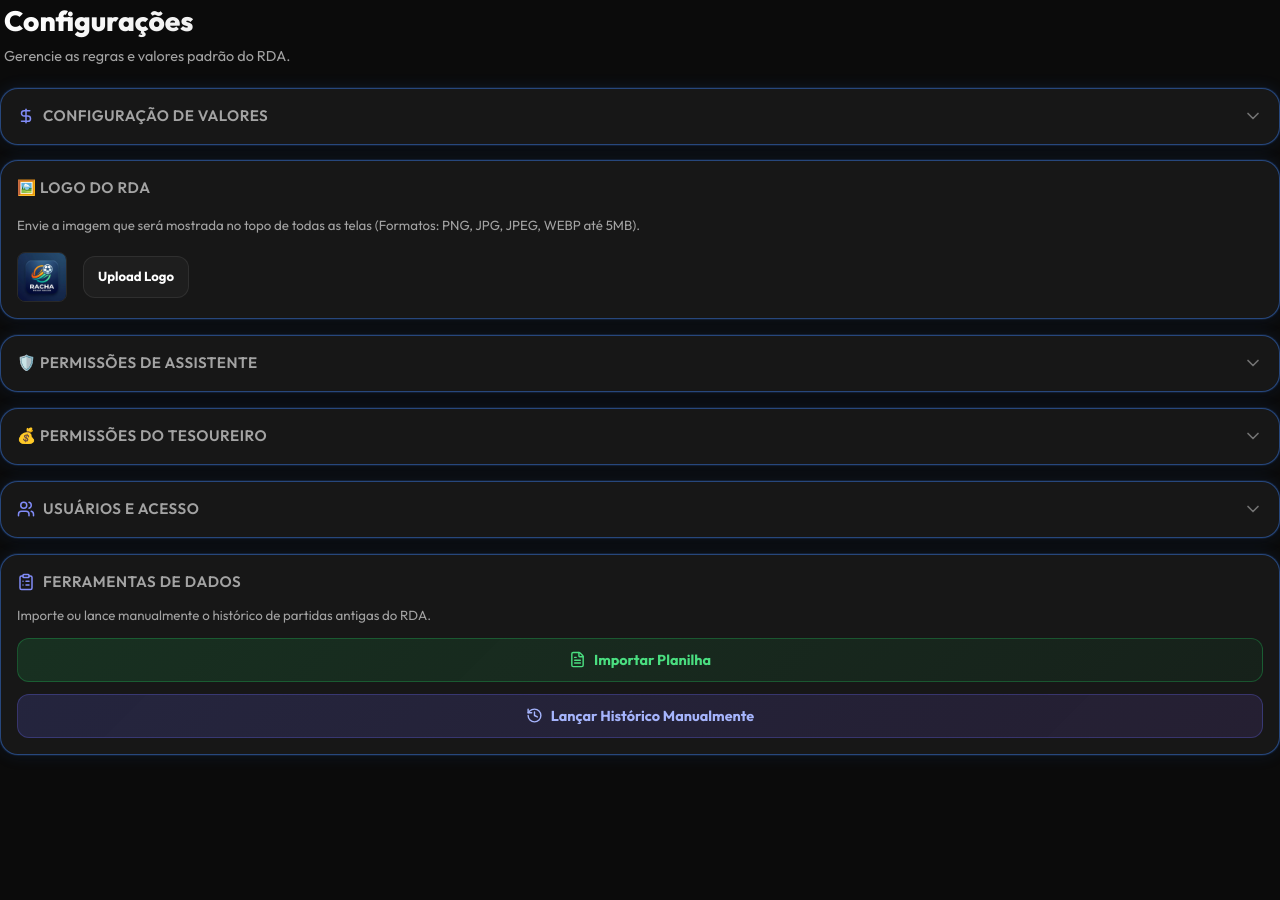
Test: Configuracoes Component › should toggle password visibility in Create Assistant modal
What coordinates should you click on to do the following:
click the text "Usuários e Acesso"
I would click on:
 (108, 509)
Its box is [17,498,199,520].
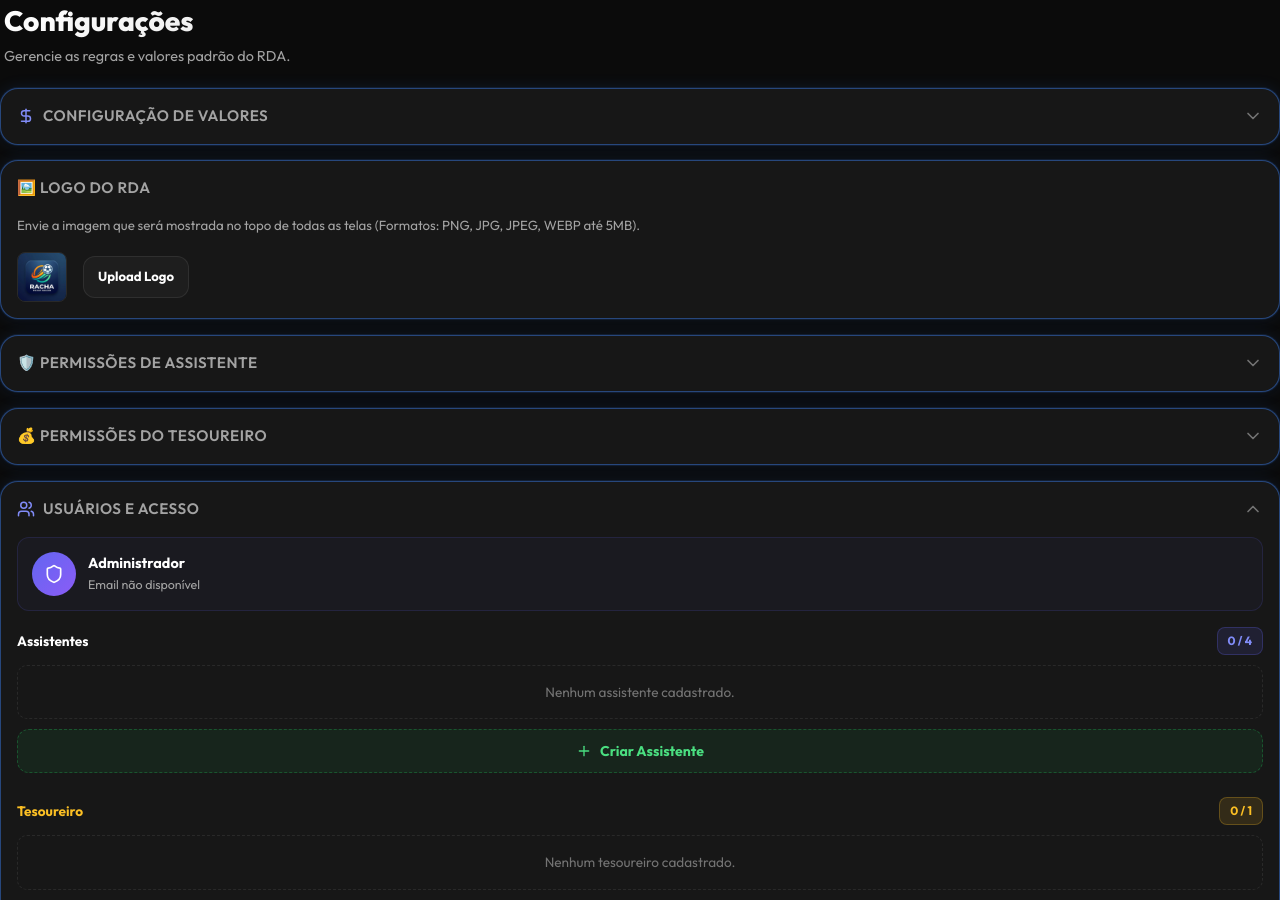
Result: the button "Criar Assistente" is shown
What coordinates should you click on to do the following:
click the button "Criar Assistente"
I would click on:
 (640, 751)
Its box is [17,729,1263,773].
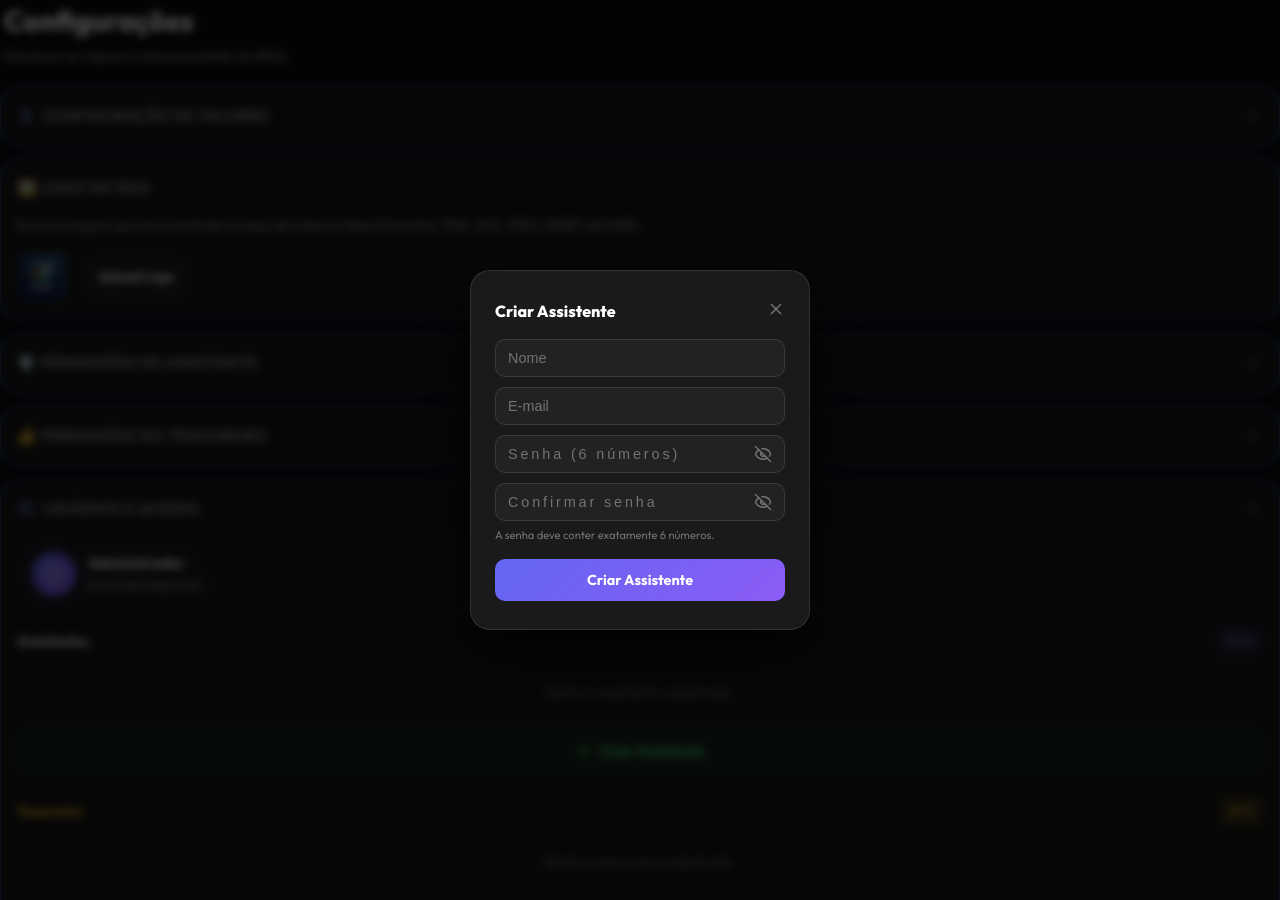
// Click eye for password
What coordinates should you click on to do the following:
click the button titled "Ver senha"
I would click on:
 (763, 454)
Its box is [745,436,781,472].
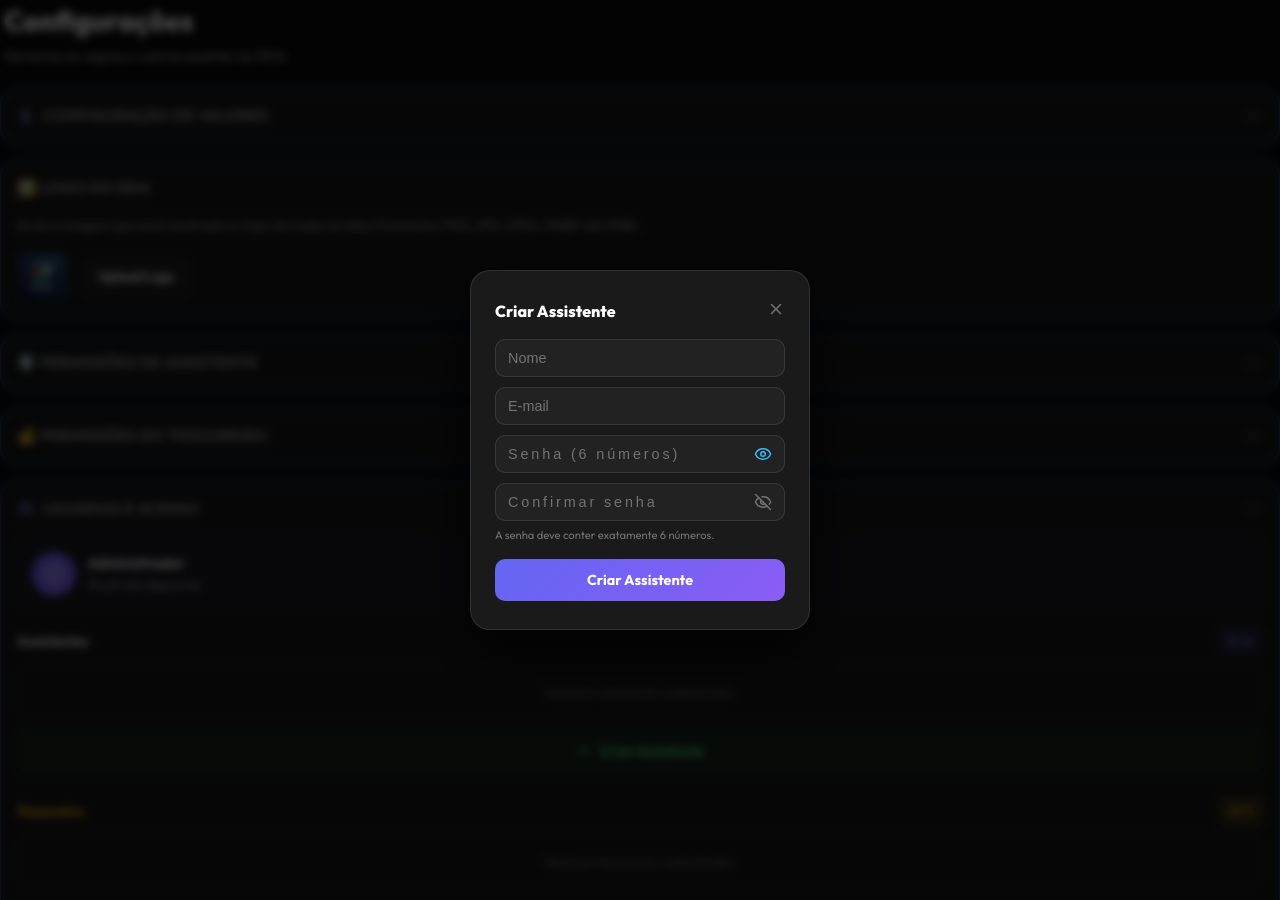
Result: the button titled "Ocultar senha" is shown
// Click again to hide
What coordinates should you click on to do the following:
click the button titled "Ocultar senha"
I would click on:
 (763, 454)
Its box is [745,436,781,472].
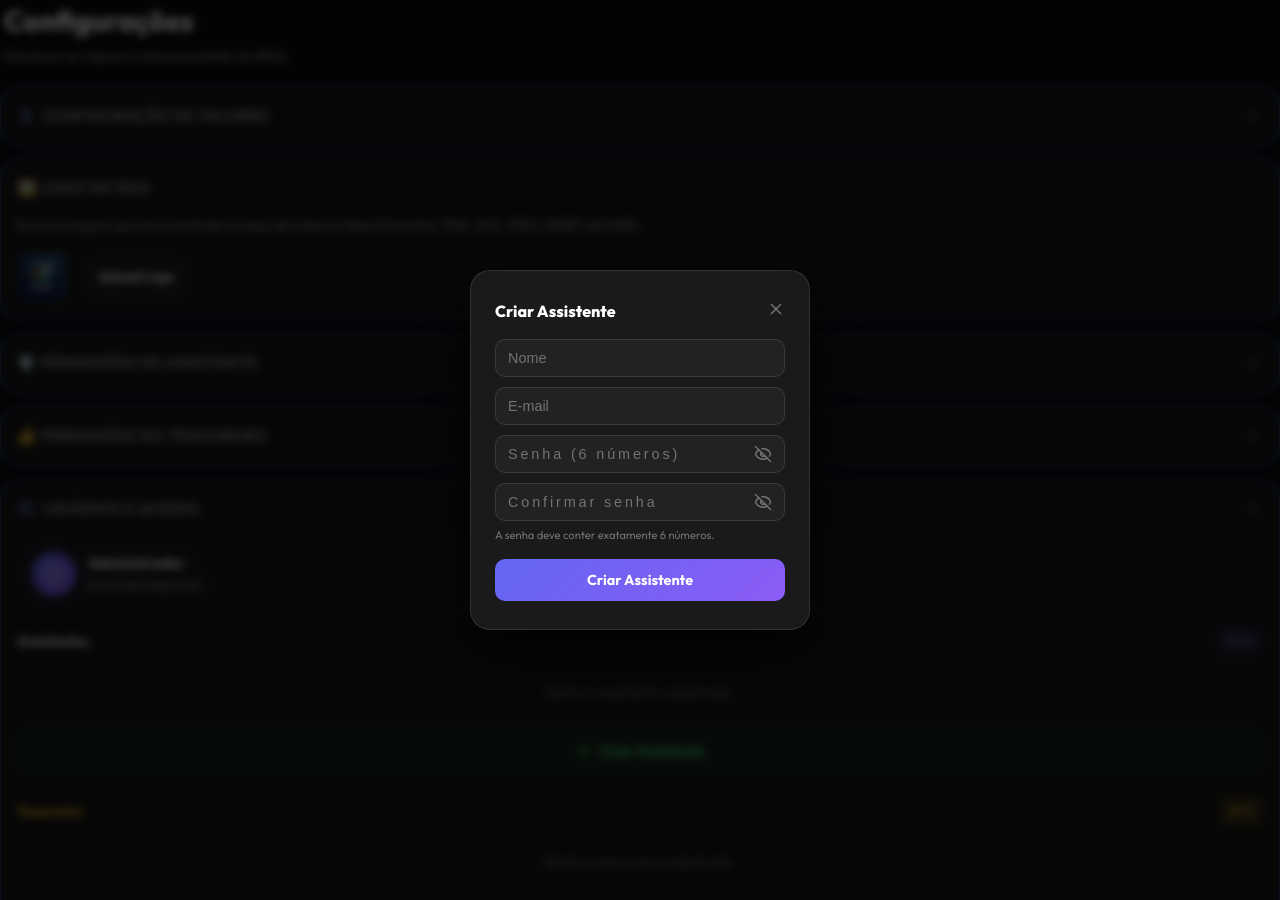
Result: the button titled "Ver senha" is shown at [745,436,781,472]
// Click eye for confirm password
What coordinates should you click on to do the following:
click the button titled "Ver confirmação de senha"
I would click on:
 (763, 502)
Its box is [745,484,781,520].
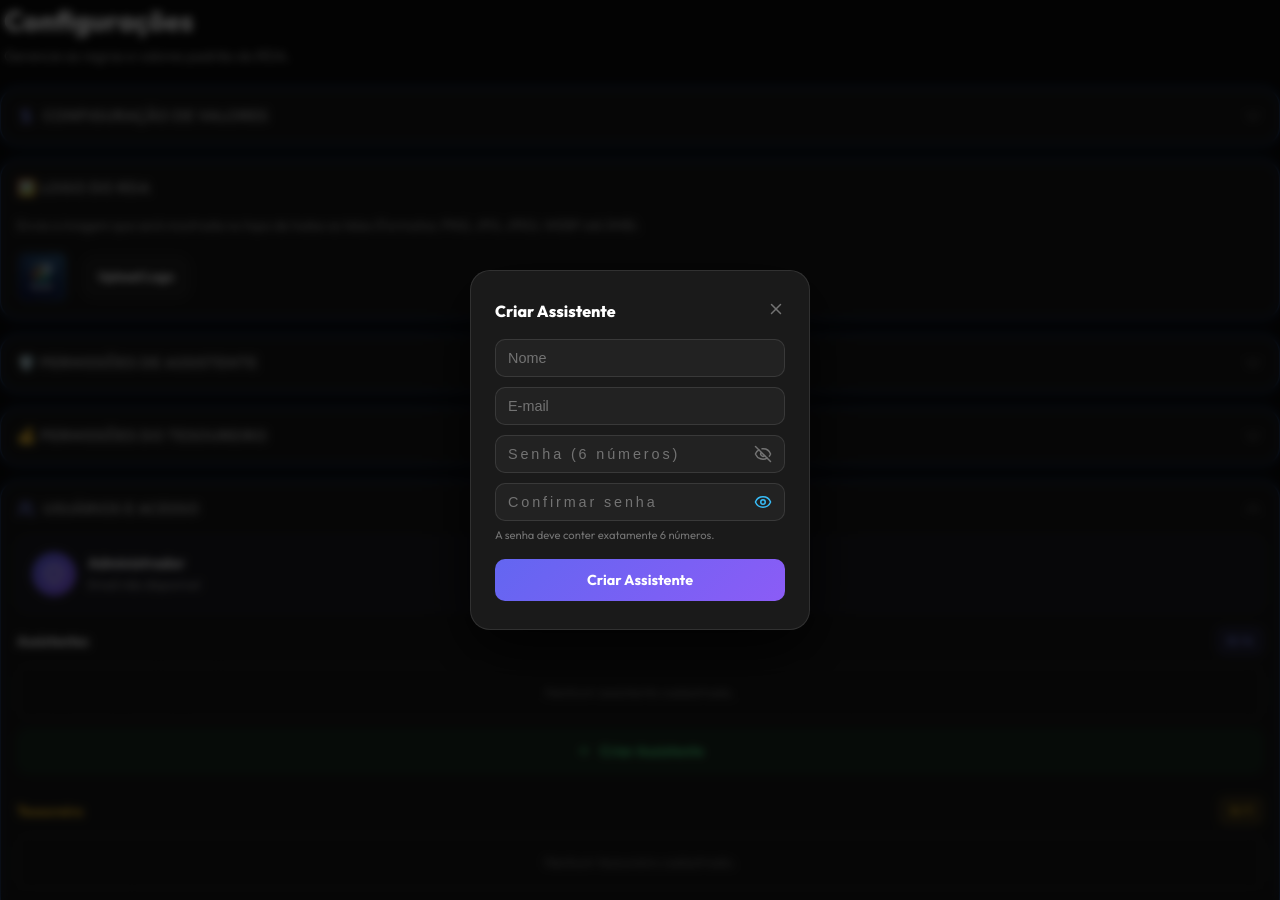
Result: the button titled "Ocultar confirmação de senha" is shown
// Click again to hide
What coordinates should you click on to do the following:
click the button titled "Ocultar confirmação de senha"
I would click on:
 (763, 502)
Its box is [745,484,781,520].
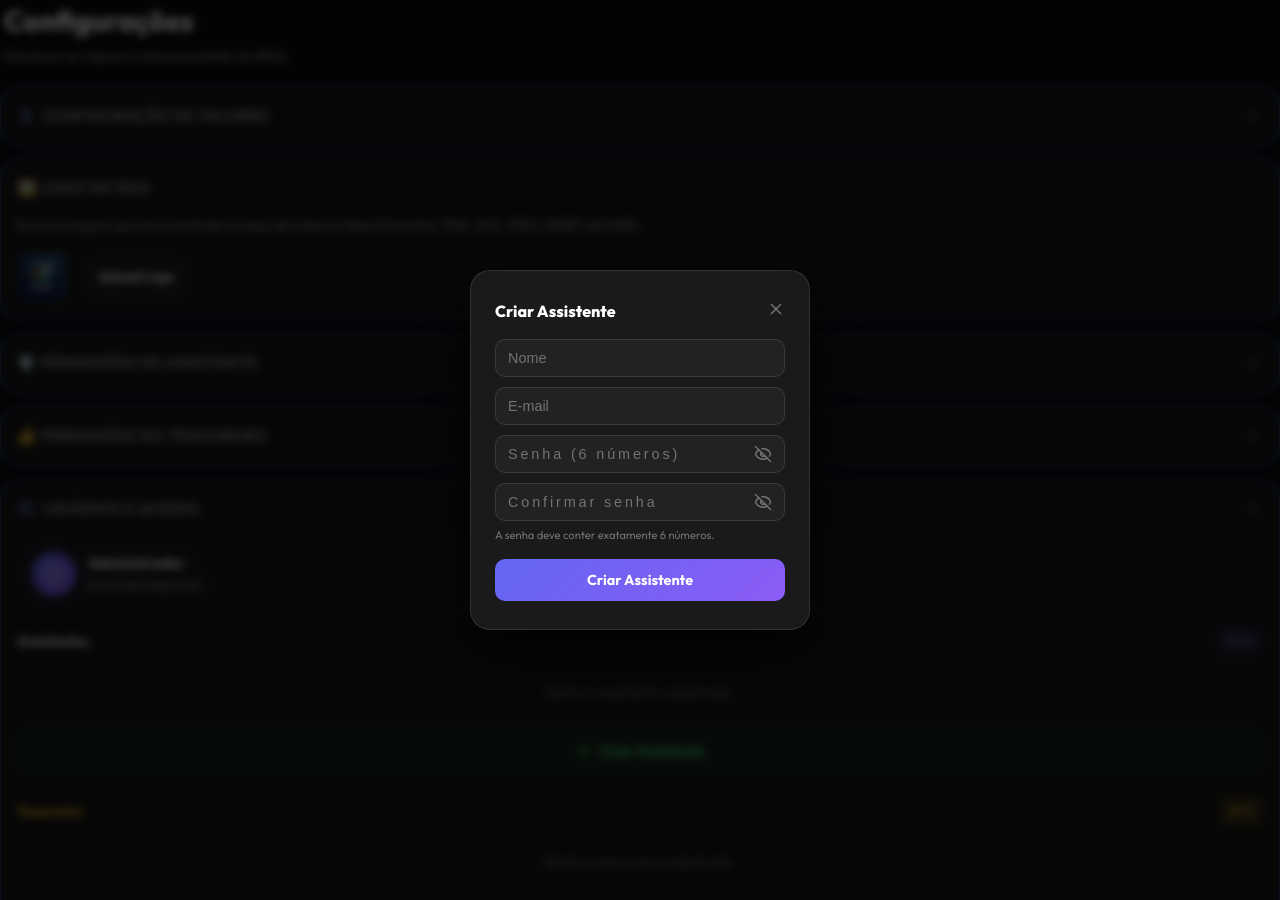
Result: the button titled "Ver confirmação de senha" is shown at [745,484,781,520]
